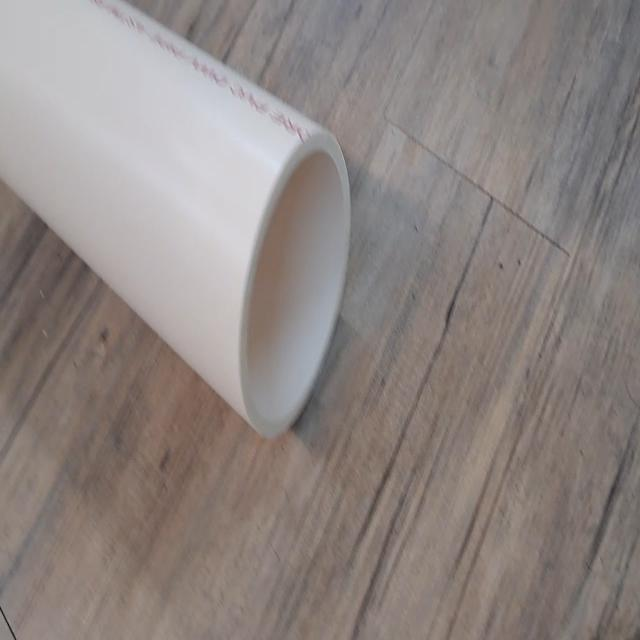CORAL: (0, 0, 356, 473)
